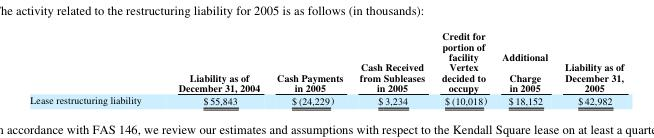table: (29, 28, 623, 106)
table column: (29, 28, 159, 106), (159, 28, 267, 106), (267, 28, 350, 106), (350, 28, 432, 106), (555, 28, 623, 106), (493, 28, 555, 106), (432, 28, 493, 106)
table column header: (29, 28, 623, 93)
table row: (29, 28, 623, 93), (29, 93, 623, 106)
